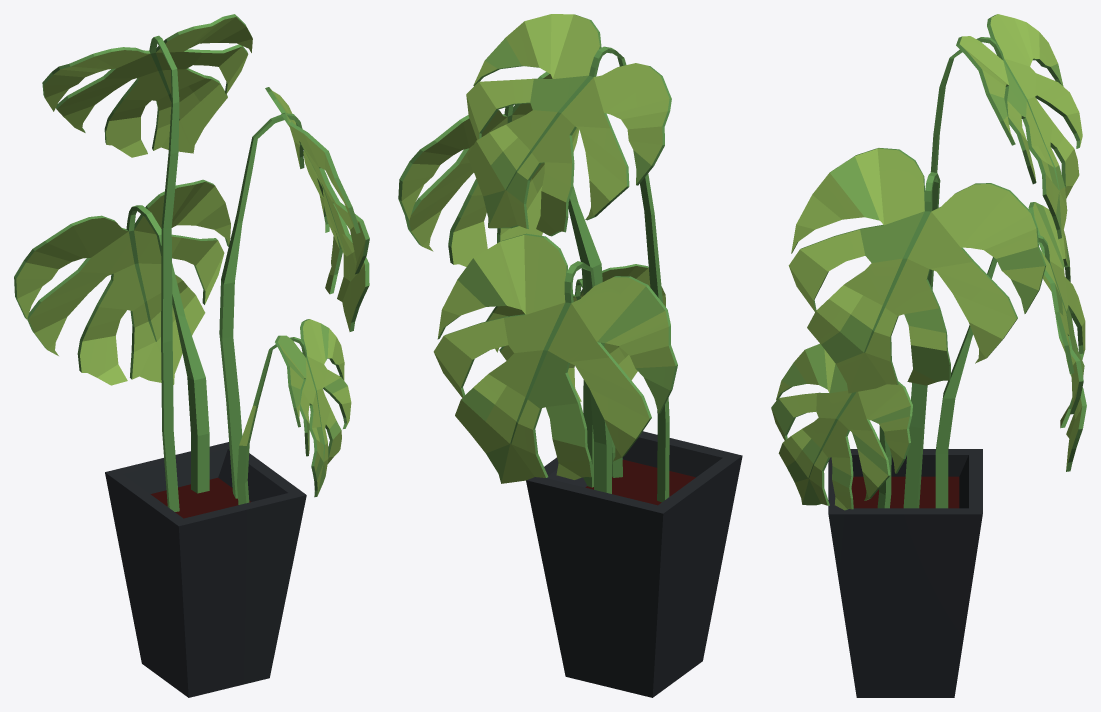
The model's file is monstera-neko.glb.
The picture shows the model from 3 angles, left to right: view 1: azimuth 30°, elevation 25°; view 2: azimuth 150°, elevation 25°; view 3: azimuth 270°, elevation 25°; orthographic projection. The views are drawn at different scales.
Visible parts, largest first — view 1: горшок; view 2: горшок; view 3: горшок.
Part boxes in pixels (left/top/right/bottom): горшок: left=14, top=14, right=369, bottom=697; горшок: left=398, top=14, right=742, bottom=697; горшок: left=771, top=14, right=1086, bottom=697.
Size of the model in its own units: 2.7 by 5.73 by 2.53.
1 material, 1 textured.
